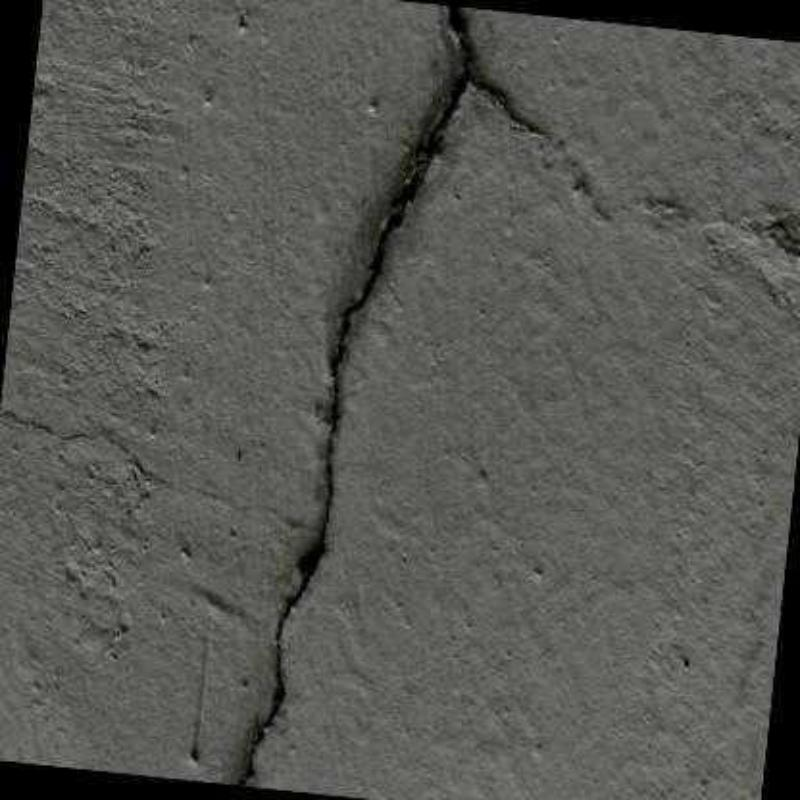pothole: (236, 5, 476, 788), (475, 79, 544, 137)
